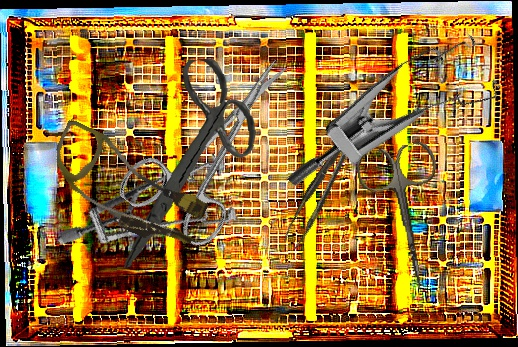Cannula: (37, 118, 217, 257)
Iris Scissors: (112, 31, 327, 260), (107, 55, 265, 268), (354, 140, 457, 295)
Speculum: (283, 0, 518, 250), (56, 118, 253, 291)
Tissue Forceps: (274, 106, 384, 250)
